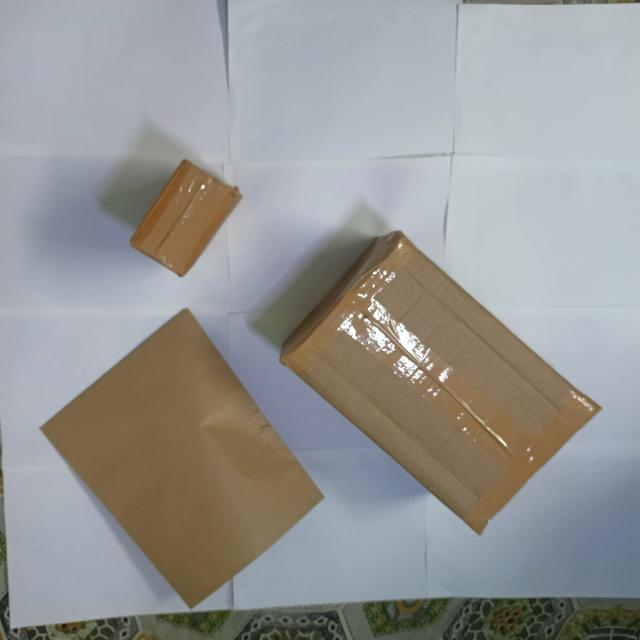box: (281, 233, 603, 537), (41, 311, 325, 614), (130, 161, 244, 280)
